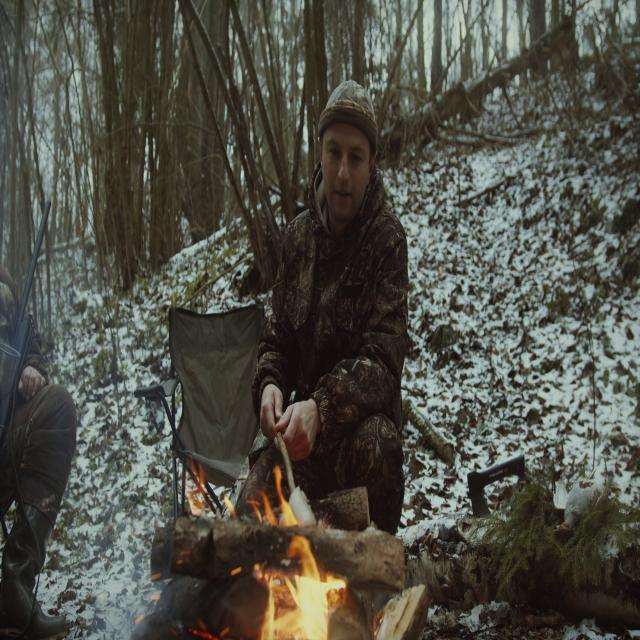Fire: (240, 448, 338, 639)
